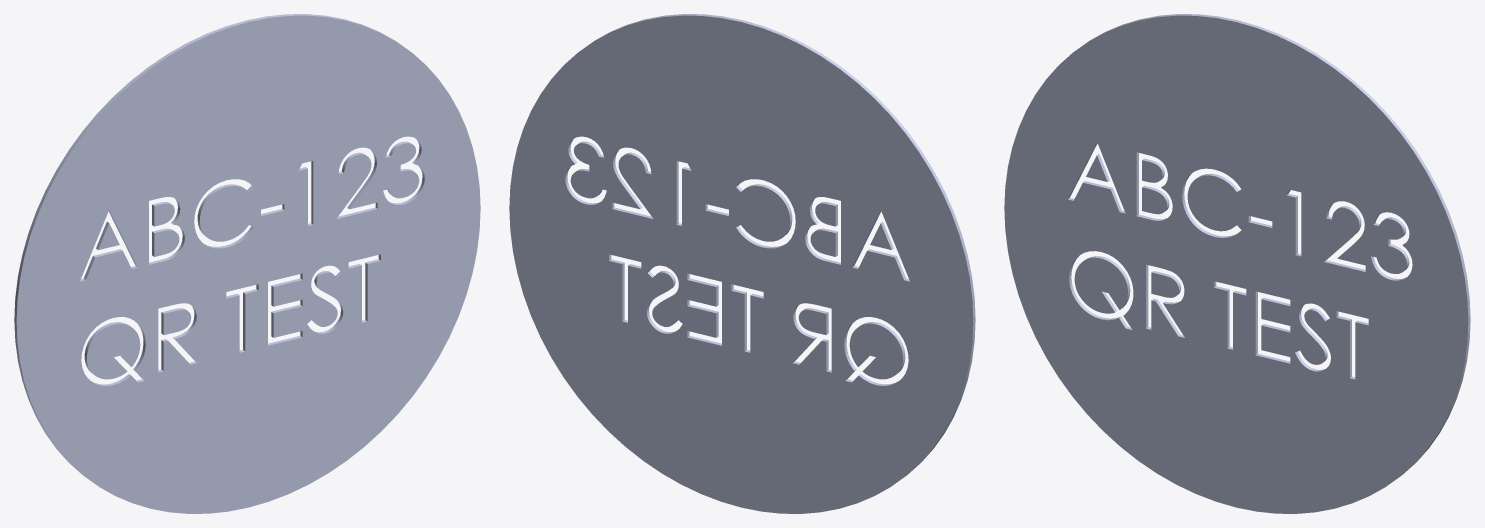
3 views of the same model, side by side, from view 1: azimuth 30°, elevation 25°; view 2: azimuth 150°, elevation 25°; view 3: azimuth 330°, elevation 25° (orthographic).
Parts seen in each view (by area): view 1: PN-1047_1.step-1, PN-1047_5.step-1, PN-1047_2.step-1, PN-1047_4.step-1; view 2: PN-1047_1.step-1, PN-1047_5.step-1, PN-1047_2.step-1, PN-1047_4.step-1; view 3: PN-1047_1.step-1, PN-1047_5.step-1, PN-1047_2.step-1, PN-1047_4.step-1.
Boxes of the visible parts, x1,y1,x2,y2 form: PN-1047_1.step-1: [14, 14, 480, 513]; PN-1047_5.step-1: [84, 322, 140, 379]; PN-1047_2.step-1: [161, 308, 191, 334]; PN-1047_4.step-1: [152, 228, 179, 256]; PN-1047_1.step-1: [509, 14, 975, 513]; PN-1047_5.step-1: [849, 322, 905, 379]; PN-1047_2.step-1: [798, 308, 828, 334]; PN-1047_4.step-1: [810, 228, 837, 256]; PN-1047_1.step-1: [1004, 14, 1470, 513]; PN-1047_5.step-1: [1074, 256, 1130, 313]; PN-1047_2.step-1: [1151, 271, 1181, 297]; PN-1047_4.step-1: [1142, 185, 1169, 214].
Size of the model in its own units: 0.1446 by 0.1446 by 0.00122.
